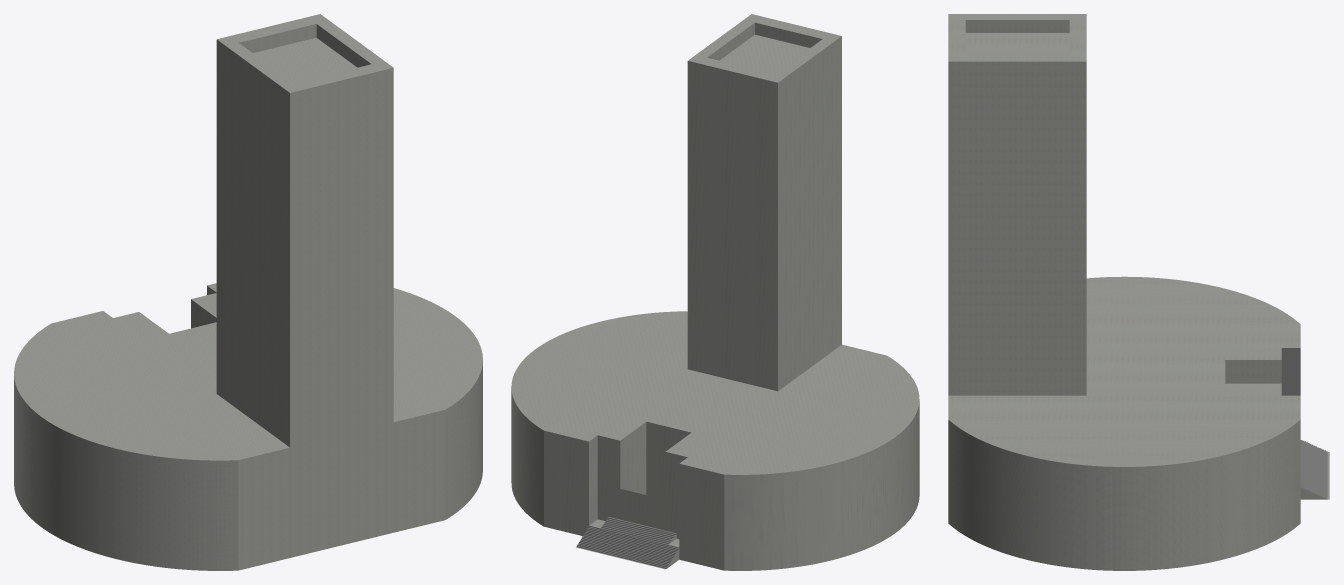
Rendered from tsg.gltf.
The picture shows the model from 3 angles, left to right: view 1: azimuth 30°, elevation 25°; view 2: azimuth 150°, elevation 25°; view 3: azimuth 270°, elevation 25°; orthographic projection. The views are drawn at different scales.
Parts seen in each view (by area): view 1: root; view 2: root; view 3: root.
Part boxes in pixels (left/top/right/bottom): root: left=14, top=14, right=482, bottom=570; root: left=511, top=14, right=919, bottom=570; root: left=948, top=14, right=1329, bottom=570.
Size of the model in its own units: 94.13 by 101 by 79.72.
Materials: 2 (1 with a texture image).
